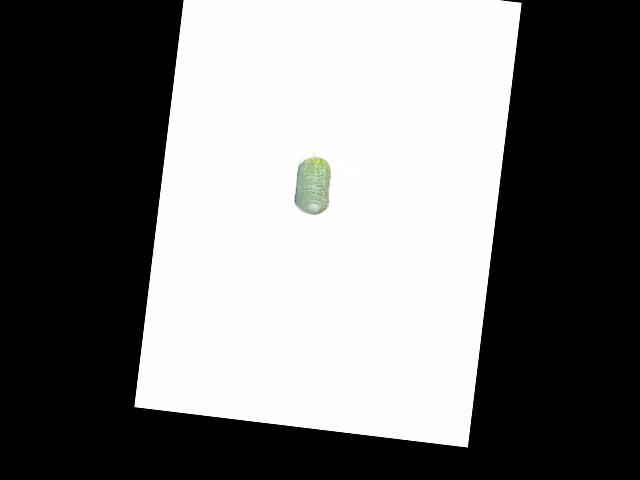cucumber: (292, 148, 335, 215)
